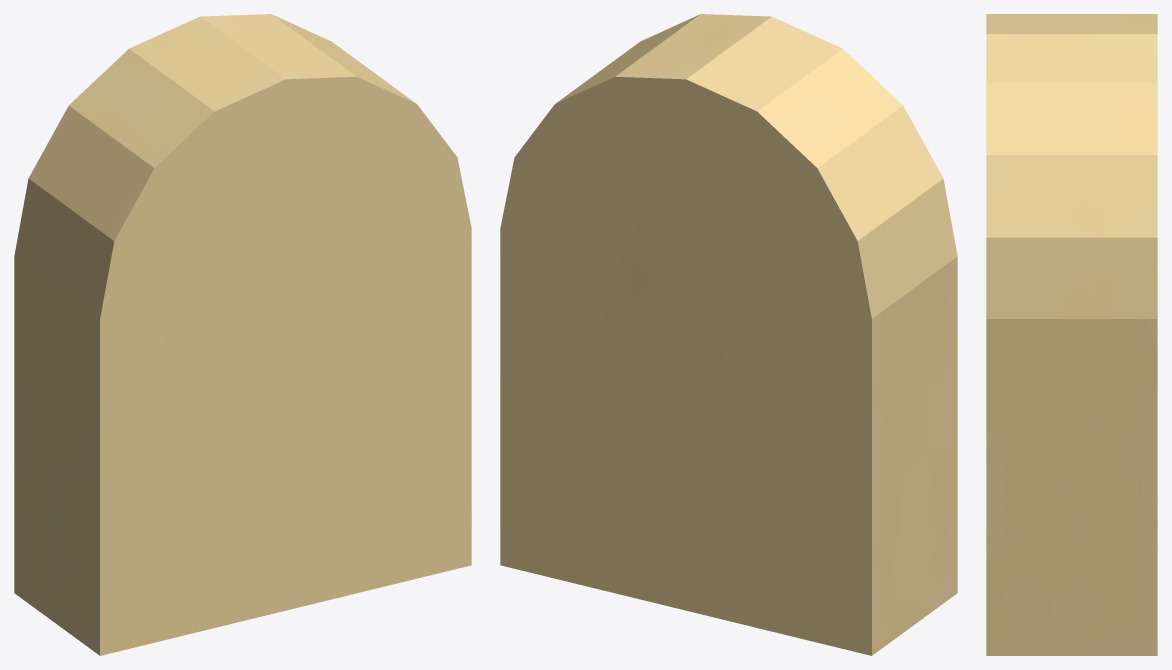
File: kiln_fire.fbx
The picture shows the model from 3 angles, left to right: view 1: azimuth 30°, elevation 25°; view 2: azimuth 150°, elevation 25°; view 3: azimuth 270°, elevation 25°; orthographic projection.
Visible parts, largest first — view 1: kiln_fire; view 2: kiln_fire; view 3: kiln_fire.
Boxes of the visible parts, box(x1,y1,x2,y2) form: kiln_fire: box(14, 14, 471, 655); kiln_fire: box(500, 14, 957, 655); kiln_fire: box(986, 14, 1157, 655).
Bounding box in the file's own units: 1.5 × 2.05 × 0.6.
